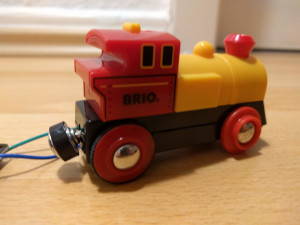brio: (46, 23, 270, 189)
